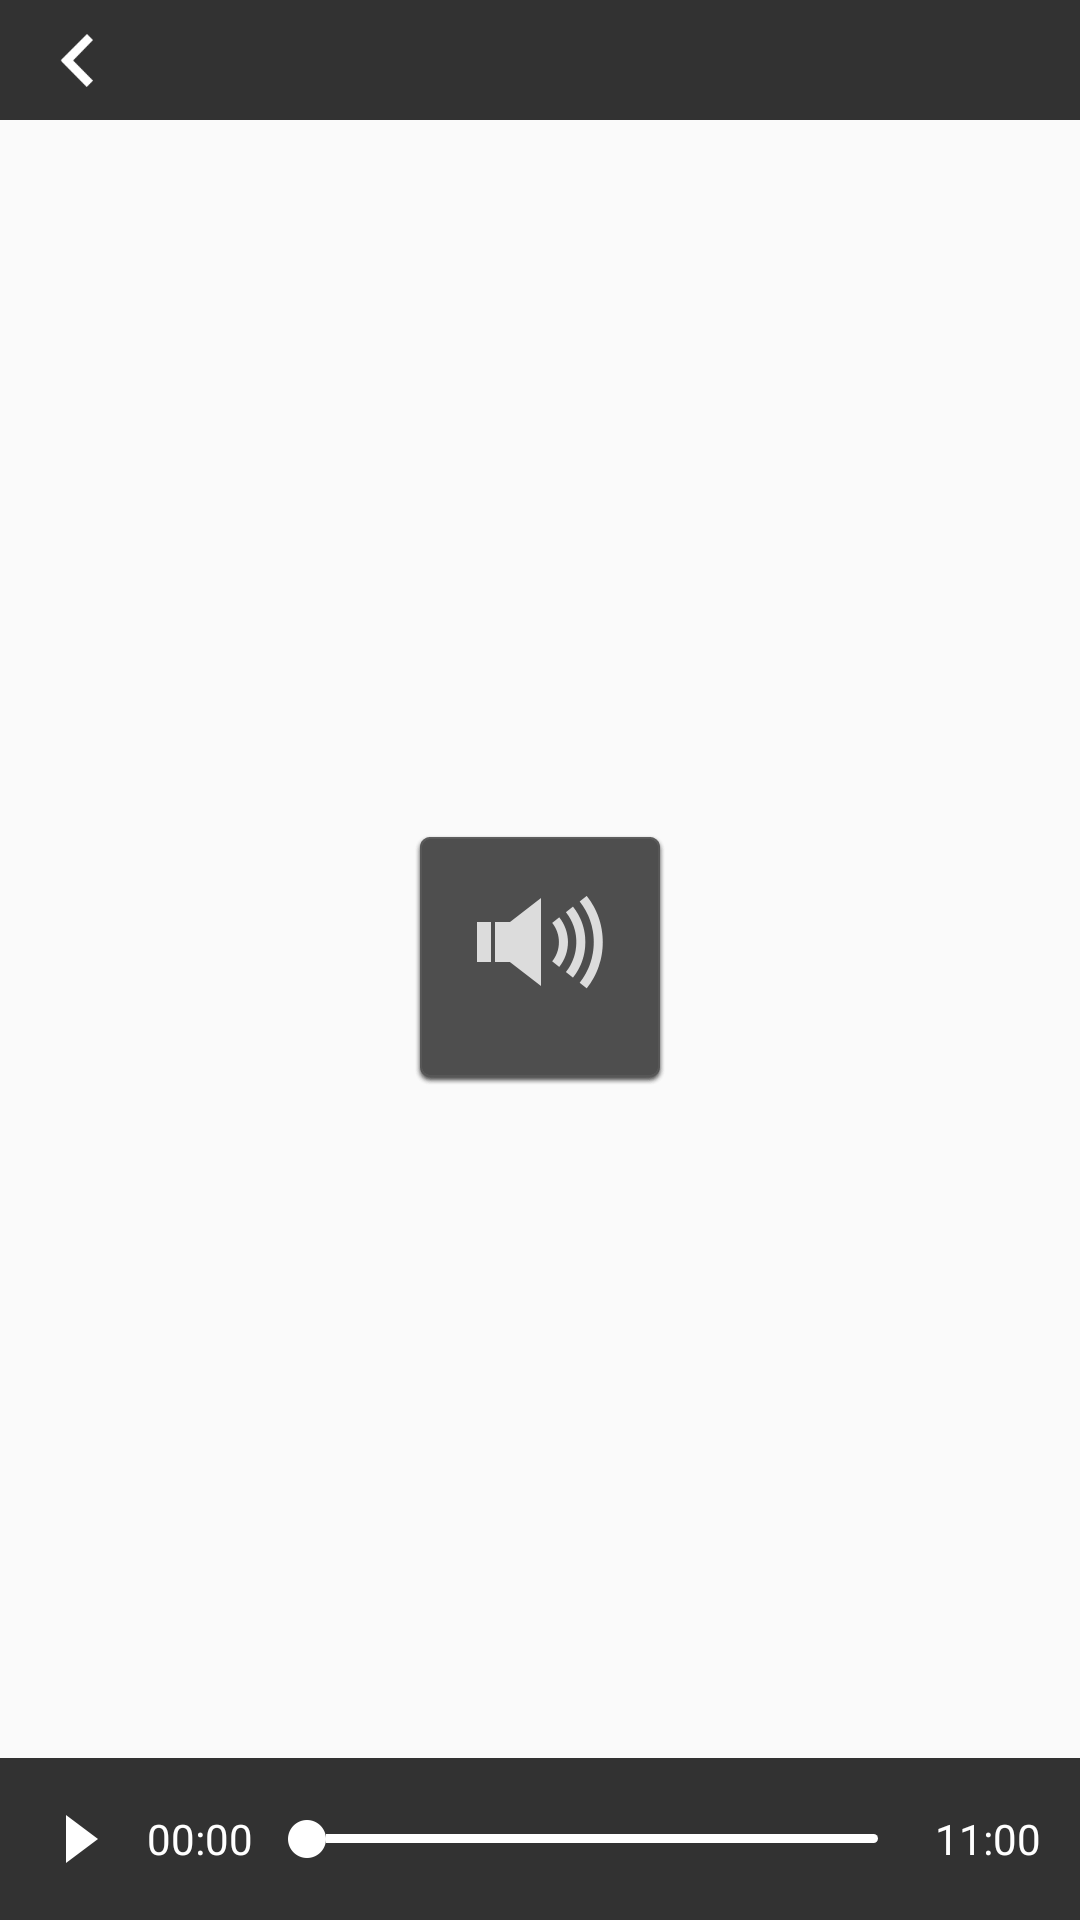

Screen size 1080w x 1920h. Icon name, then its box in pixels as (x1, y1, x2, y2):
back: (61, 34, 93, 87)
bofang: (66, 1815, 98, 1863)
